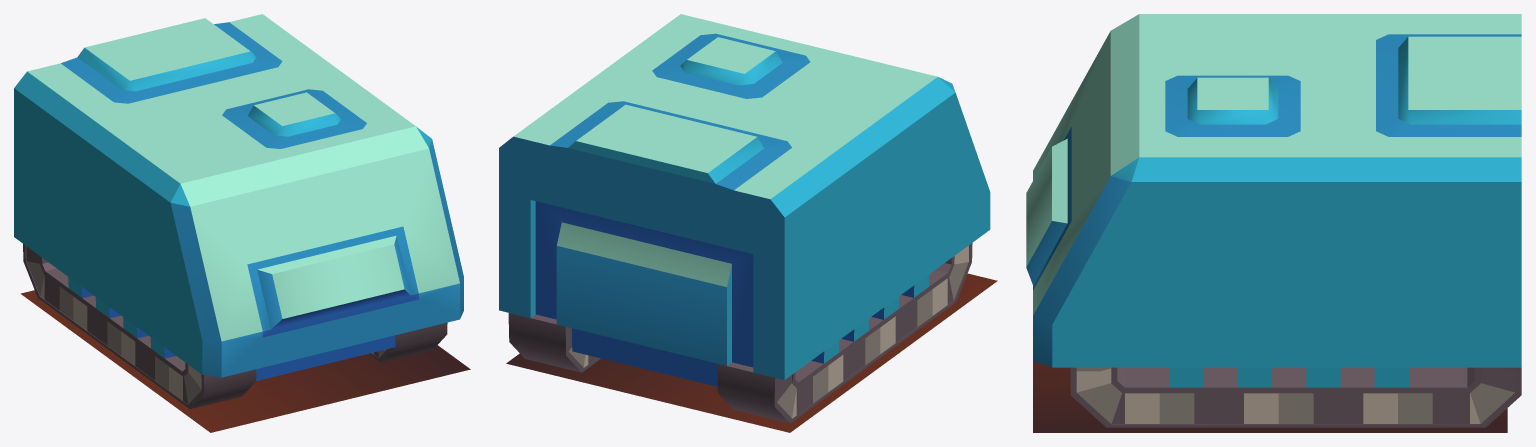
File: APCMesh.AzureAsteroid.glb
The picture shows the model from 3 angles, left to right: view 1: azimuth 30°, elevation 25°; view 2: azimuth 150°, elevation 25°; view 3: azimuth 270°, elevation 25°; orthographic projection. The views are drawn at different scales.
Visible parts, largest first — view 1: APCMesh.AzureAsteroid; view 2: APCMesh.AzureAsteroid; view 3: APCMesh.AzureAsteroid.
Boxes of the visible parts, box(x1,y1,x2,y2) form: APCMesh.AzureAsteroid: box(14, 14, 470, 432); APCMesh.AzureAsteroid: box(499, 14, 997, 432); APCMesh.AzureAsteroid: box(1026, 14, 1521, 432).
Bounding box in the file's own units: 1.51 × 1.25 × 1.98.
Materials: 1 (1 with a texture image).
